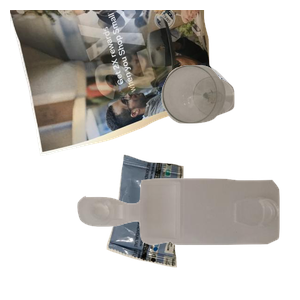glass: (159, 63, 300, 179)
paper: (10, 10, 233, 158)
plastic: (75, 176, 300, 300)
trash: (104, 152, 280, 300)
